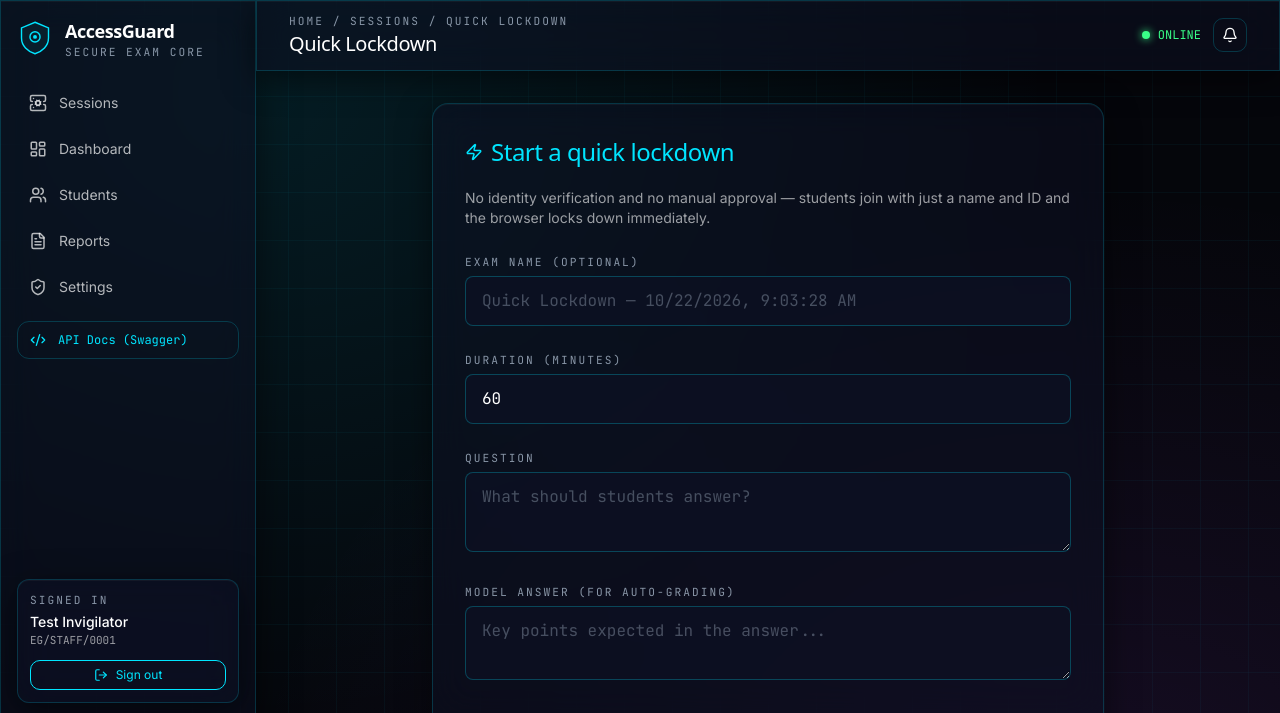
Test case: QuickLockdown › creates and starts a session, then shows the join code
Type "Summarize the reading." into the text box with test id "quick-question-input" at {"x": 768, "y": 512}, box [465,472,1071,552]
(page scrolled)
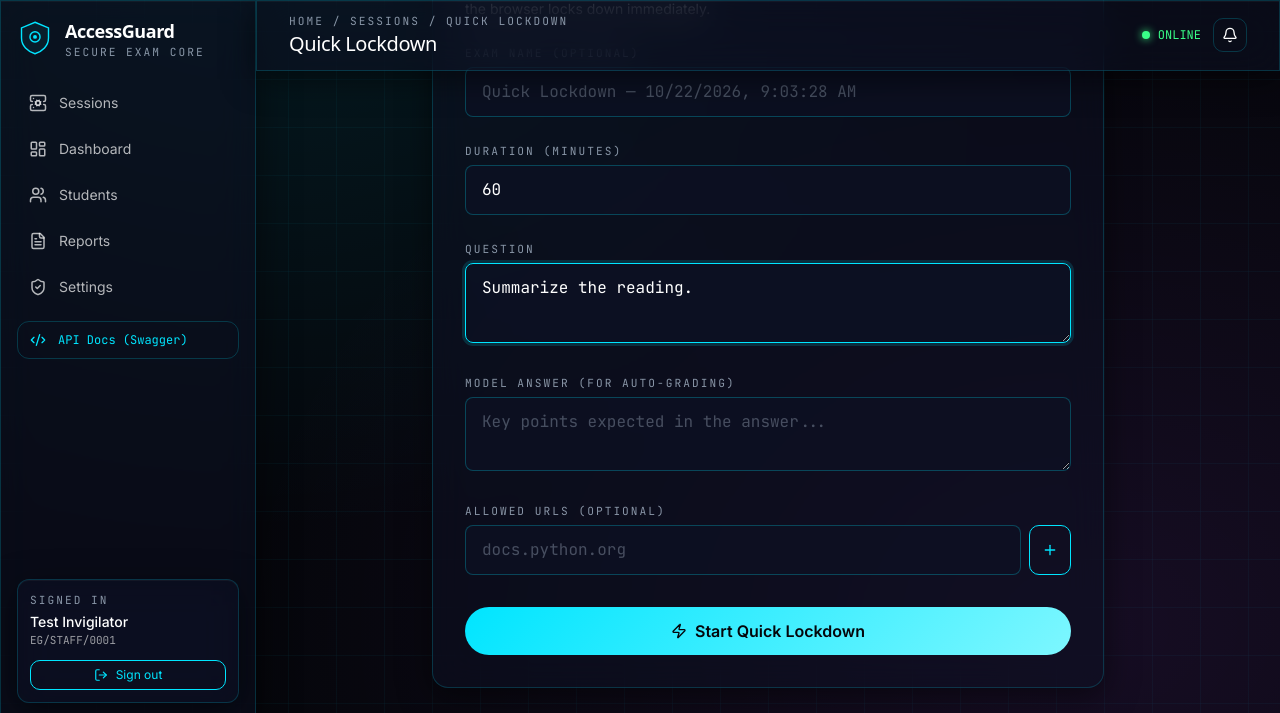
Click the button with test id "quick-launch-btn" at {"x": 768, "y": 631}, box [465,607,1071,655]
(page scrolled)
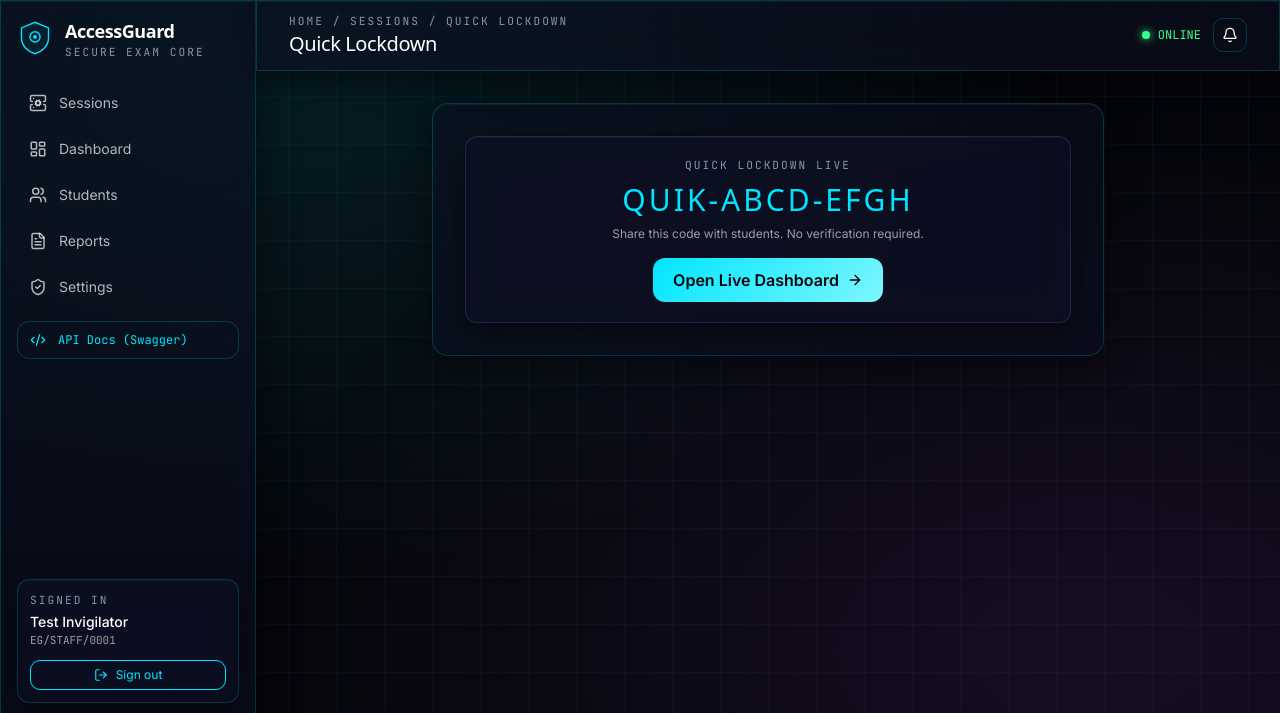
Expected: the text with test id "quick-session-code-display" reads "QUIK-ABCD-EFGH", [622,179,914,220]
